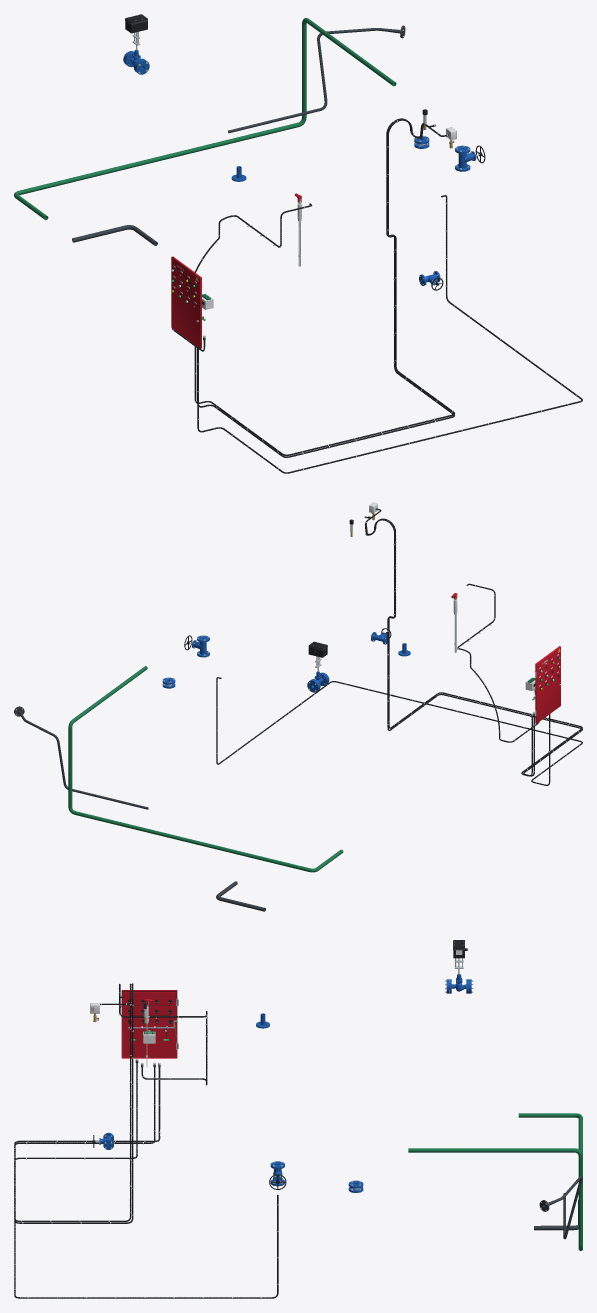
3 views of the same model, one above another, from view 1: azimuth 30°, elevation 25°; view 2: azimuth 150°, elevation 25°; view 3: azimuth 270°, elevation 25° (orthographic). The views are drawn at different scales.
Visible parts, largest first — view 1: to_economizer / green, cabinet_door / cabinet_door_5.npz, wiring_pump_1 / black, wiring_pressure_switch_2 / black, wiring_pressure_switch_1 / black, tds_without_fv / dark; view 2: to_economizer / green, cabinet_door / cabinet_door_5.npz, wiring_pump_1 / black, wiring_pressure_switch_1 / black, wiring_pressure_switch_2 / black, tds_without_fv / dark; view 3: cabinet_door / cabinet_door_5.npz, to_economizer / green, wiring_pressure_switch_2 / black, wiring_pump_1 / black, wiring_pressure_switch_1 / black, tds_without_fv / dark, wiring_low_level_2 / black.
Part boxes in pixels (x1,y1,x2,y2): to_economizer / green: (14, 18, 396, 220); cabinet_door / cabinet_door_5.npz: (171, 256, 202, 348); wiring_pump_1 / black: (197, 195, 582, 473); wiring_pressure_switch_2 / black: (194, 119, 455, 455); wiring_pressure_switch_1 / black: (197, 118, 454, 457); tds_without_fv / dark: (228, 25, 405, 133); to_economizer / green: (68, 666, 343, 872); cabinet_door / cabinet_door_5.npz: (534, 646, 561, 723); wiring_pump_1 / black: (216, 677, 582, 785); wiring_pressure_switch_1 / black: (365, 509, 582, 776); wiring_pressure_switch_2 / black: (366, 517, 582, 776); tds_without_fv / dark: (14, 706, 148, 809); cabinet_door / cabinet_door_5.npz: (121, 990, 178, 1058); to_economizer / green: (408, 1113, 582, 1250); wiring_pressure_switch_2 / black: (14, 984, 160, 1221); wiring_pump_1 / black: (14, 1063, 278, 1298); wiring_pressure_switch_1 / black: (14, 983, 155, 1223); tds_without_fv / dark: (539, 1176, 582, 1239); wiring_low_level_2 / black: (119, 984, 207, 1085).
Bounding box in the file's own units: 4.56 × 2.76 × 5.46.
